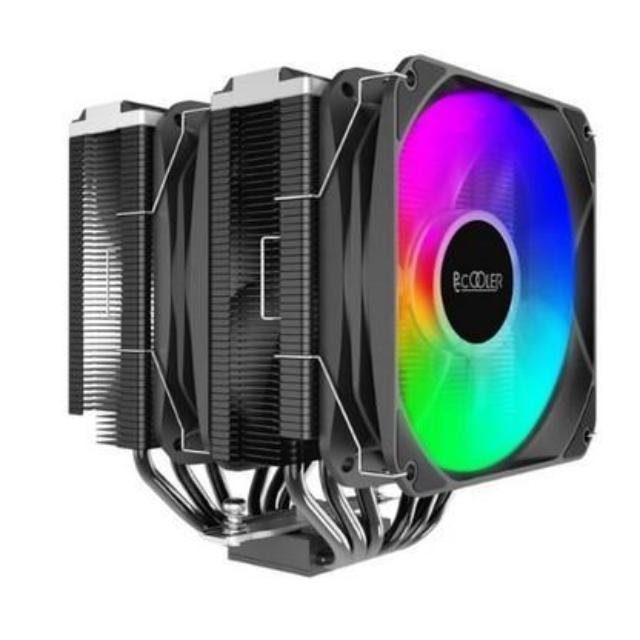CPU_Fan: (70, 50, 598, 579)
